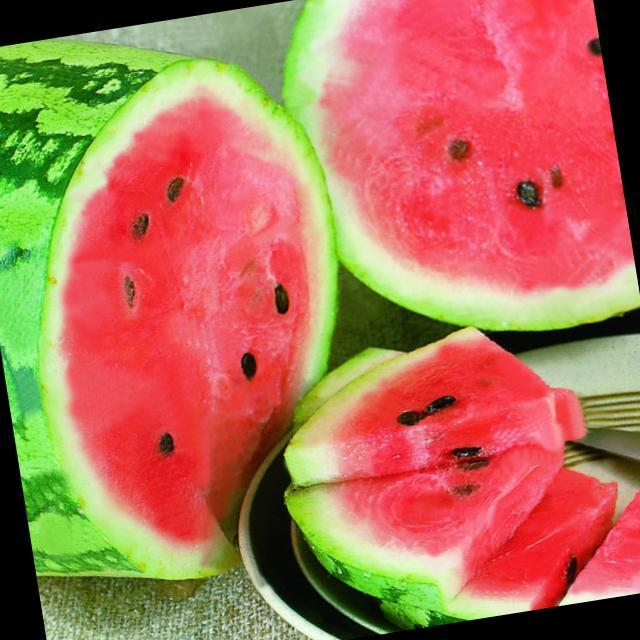WATERMELON: (0, 0, 382, 599), (277, 0, 640, 363), (276, 322, 596, 507), (287, 447, 571, 621), (400, 429, 640, 627), (541, 428, 640, 605)
